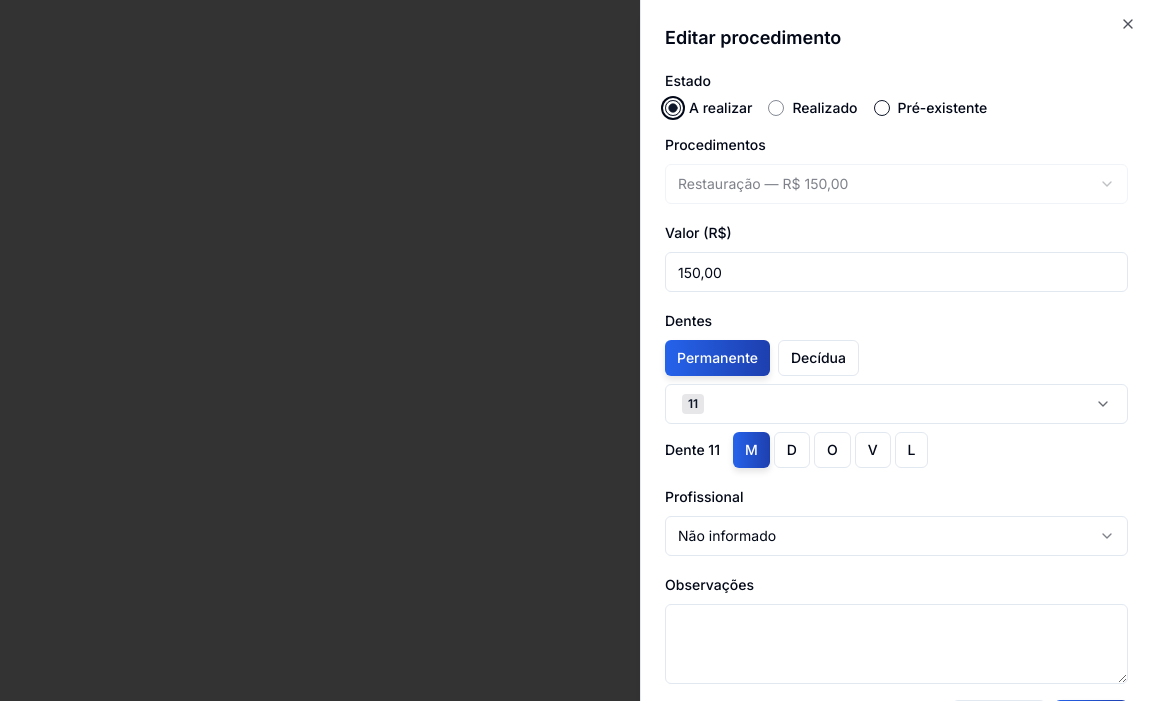
Test: ProcedureDrawer › valor usa máscara BRL e envia centavos
Replace the text in the field labelled "Valor (R$)" with "1.234,56" at (896, 272), box [665,252,1128,292]
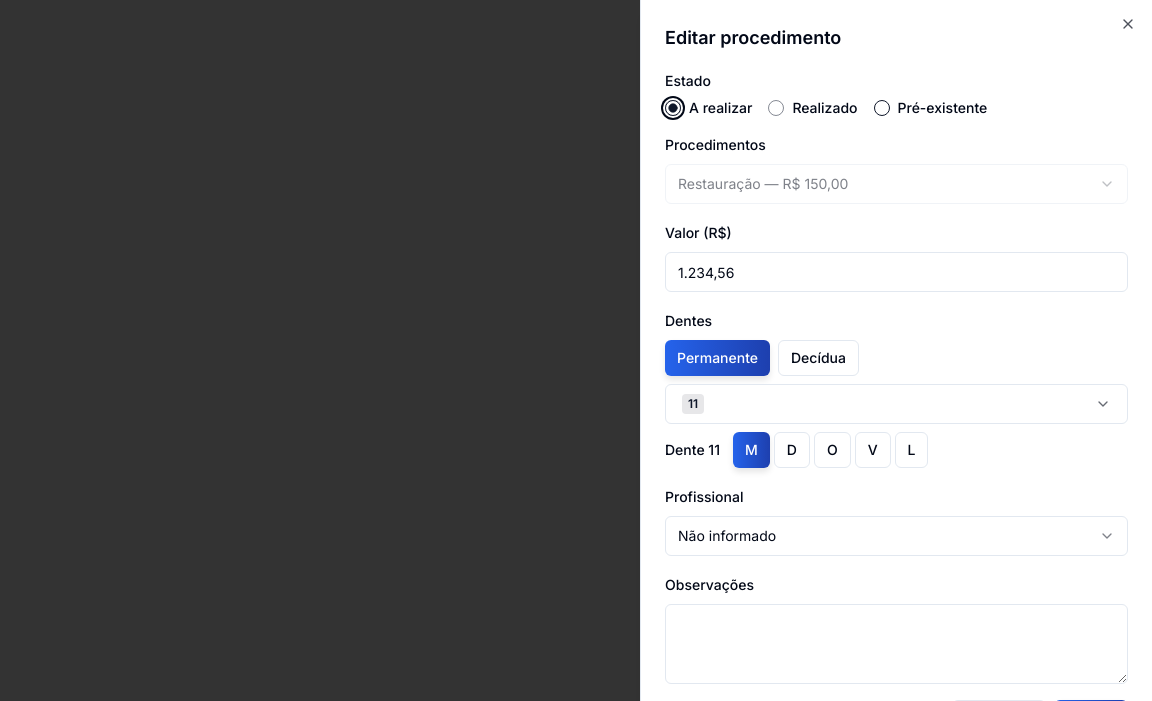
Replace the text in the field labelled "Valor (R$)" with "1.234,567" at (896, 272), box [665,252,1128,292]
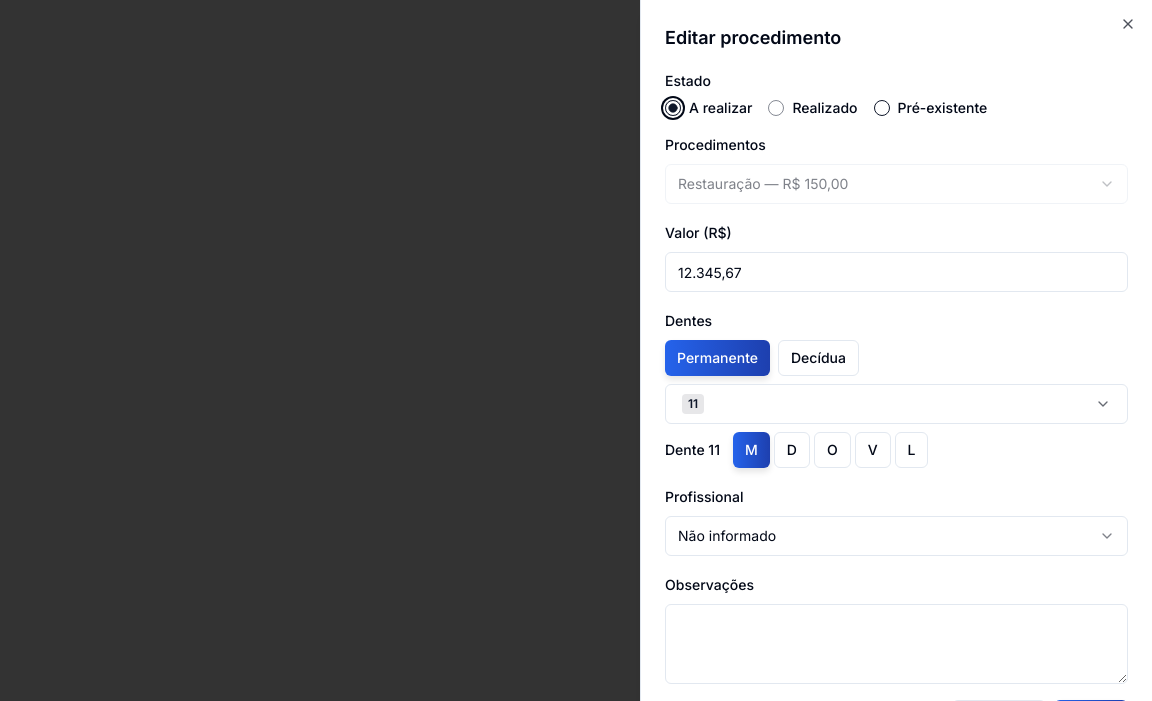
Expected: the field labelled "Valor (R$)" holds "12.345,67", [665,252,1128,292]
